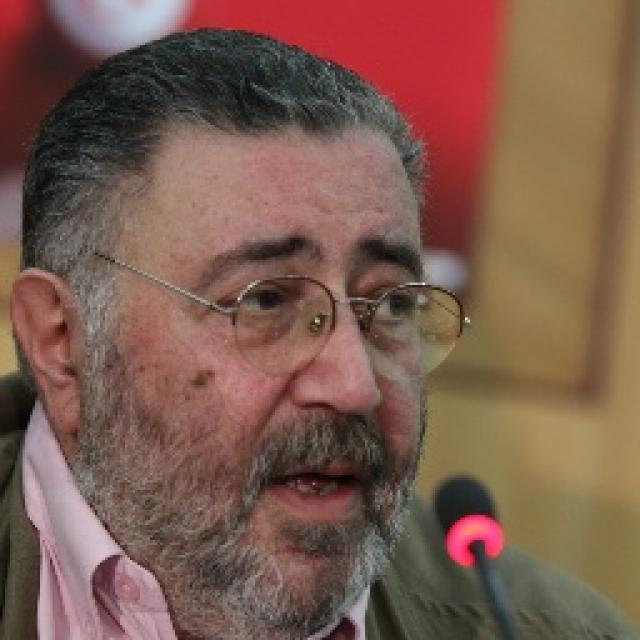earlobe: (42, 388, 83, 434)
eye: (218, 284, 295, 317), (365, 289, 417, 323)
nose: (298, 403, 369, 457)
wholeear: (8, 268, 85, 436)
